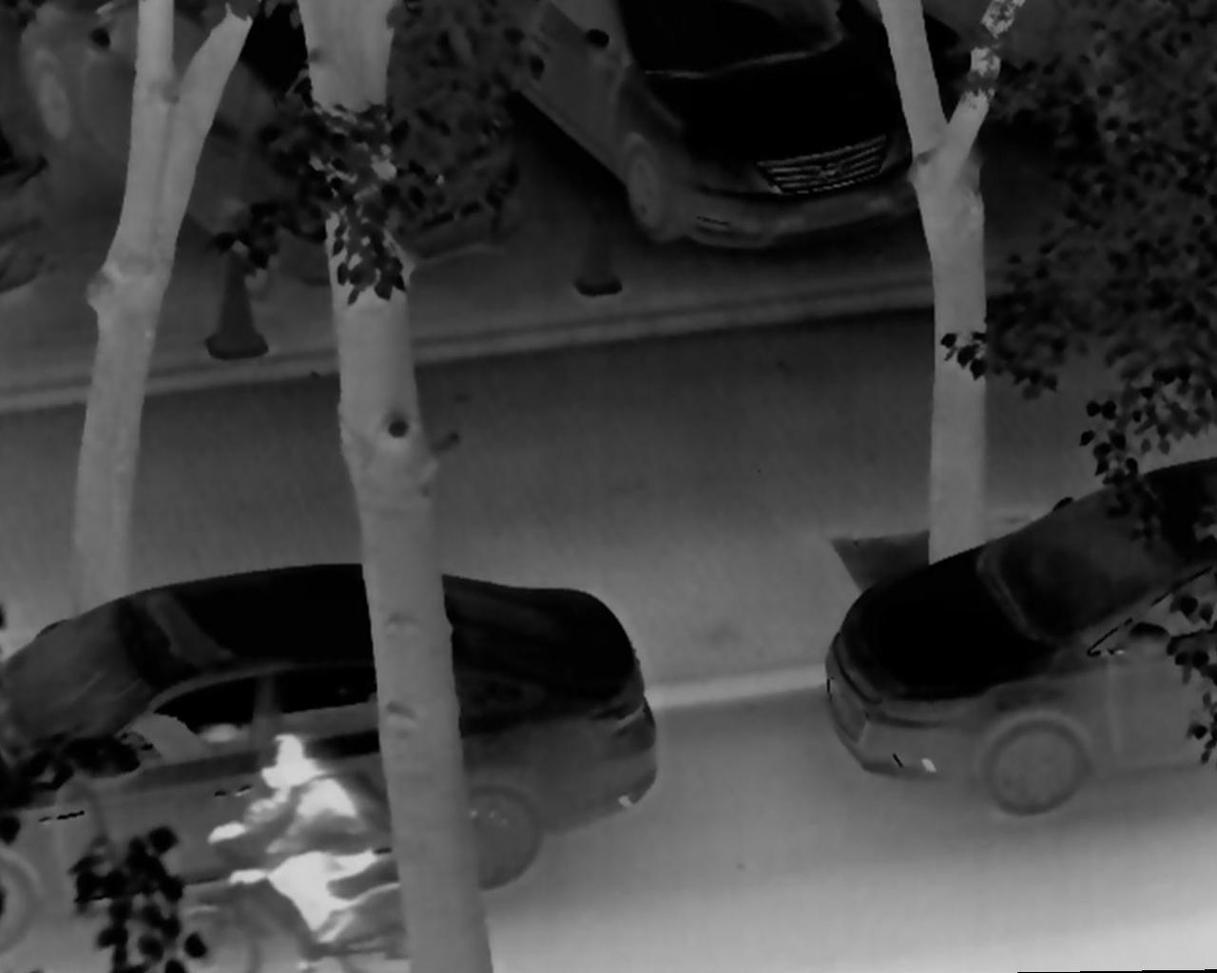person: (196, 732, 375, 950)
